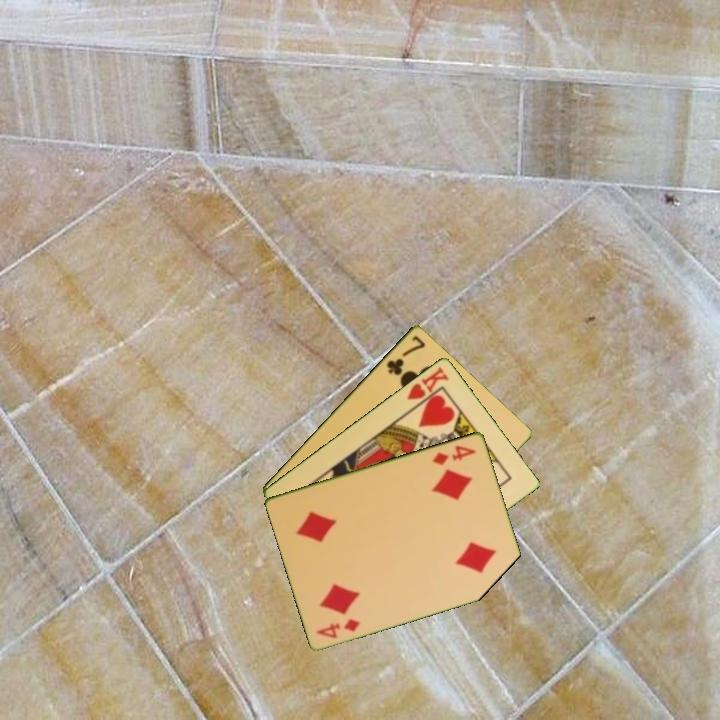4d: (429, 441, 479, 468), (313, 615, 363, 641)
7c: (383, 332, 428, 378)
Kh: (403, 363, 452, 412)
